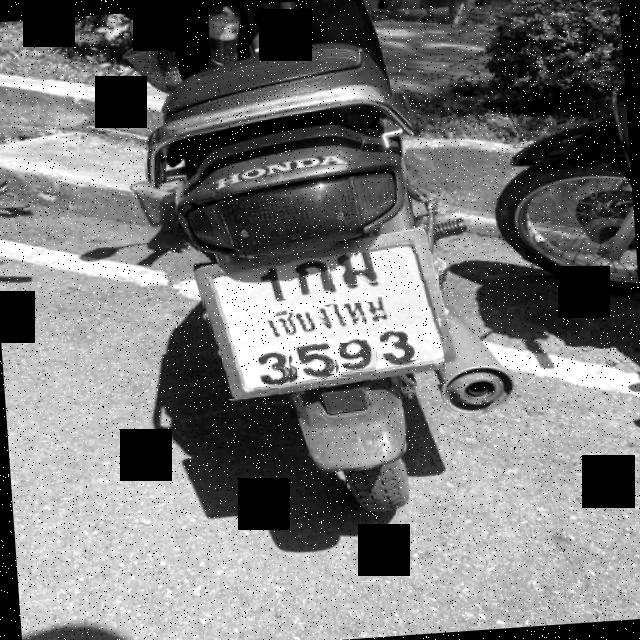letters: (252, 342, 292, 396), (334, 250, 386, 286), (291, 256, 332, 298), (294, 340, 336, 376), (379, 326, 421, 362), (339, 340, 378, 377), (254, 264, 288, 301)
license-plate: (200, 239, 444, 398)
province: (254, 299, 405, 330)
